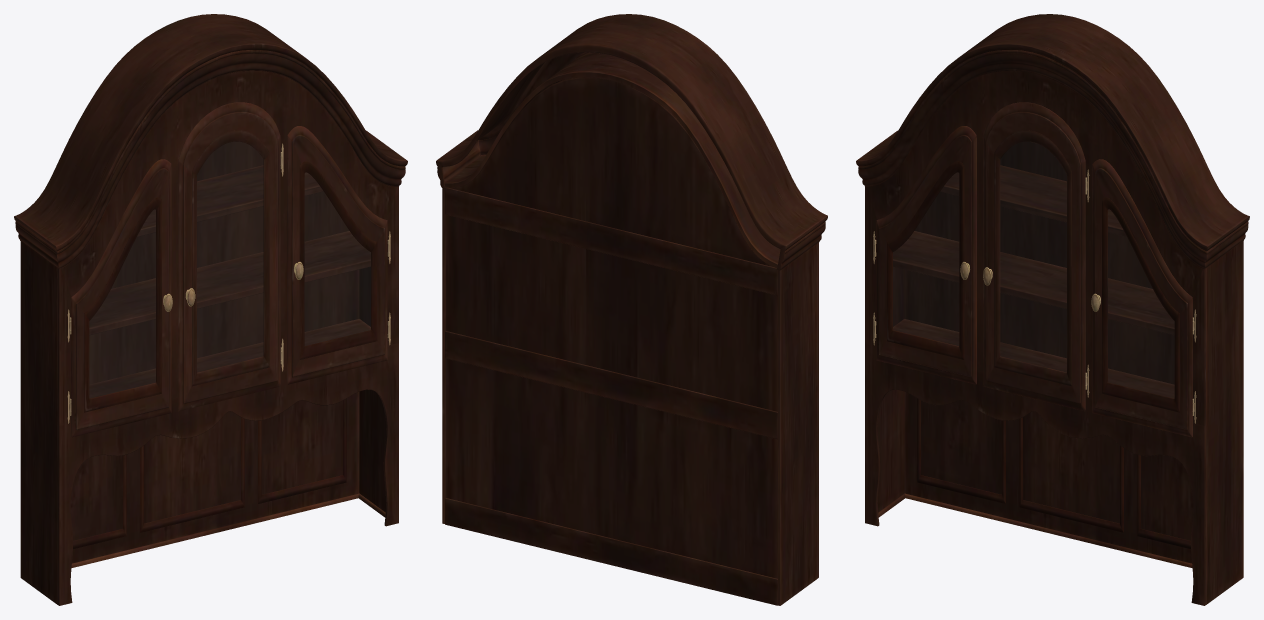
File: hutch_top.glb
3 views of the same model, side by side, from view 1: azimuth 30°, elevation 25°; view 2: azimuth 150°, elevation 25°; view 3: azimuth 330°, elevation 25° (orthographic).
Parts seen in each view (by area): view 1: vintage_cabinet_01_body.002, vintage_cabinet_01_door_03.002, vintage_cabinet_01_door_01.002, vintage_cabinet_01_door_04.002; view 2: vintage_cabinet_01_body.002; view 3: vintage_cabinet_01_body.002, vintage_cabinet_01_door_03.002, vintage_cabinet_01_door_04.002, vintage_cabinet_01_door_01.002.
Part boxes in pixels (x1,y1,x2,y2): vintage_cabinet_01_body.002: (14, 14, 407, 605); vintage_cabinet_01_door_03.002: (178, 102, 282, 411); vintage_cabinet_01_door_01.002: (70, 159, 172, 437); vintage_cabinet_01_door_04.002: (287, 126, 389, 384); vintage_cabinet_01_body.002: (436, 14, 827, 605); vintage_cabinet_01_body.002: (856, 14, 1249, 605); vintage_cabinet_01_door_03.002: (983, 102, 1086, 411); vintage_cabinet_01_door_04.002: (1091, 159, 1193, 437); vintage_cabinet_01_door_01.002: (874, 126, 976, 384).
Bounding box in the file's own units: 39.12 × 55.34 × 8.68.
3 materials, 2 textured.
